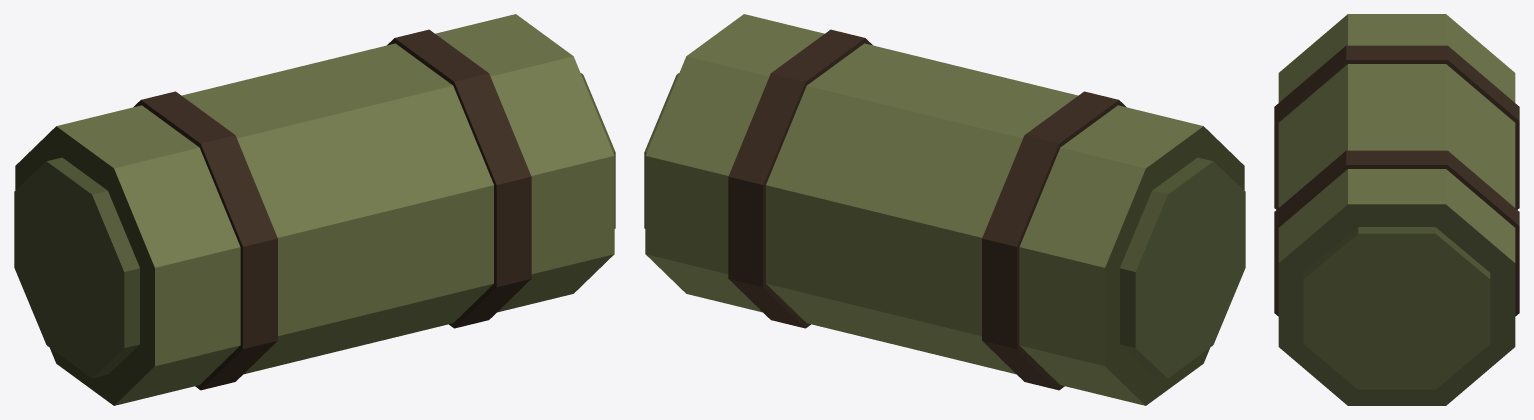
Rendered from gear-swag.glb.
The picture shows the model from 3 angles, left to right: view 1: azimuth 30°, elevation 25°; view 2: azimuth 150°, elevation 25°; view 3: azimuth 270°, elevation 25°; orthographic projection. The views are drawn at different scales.
Visible parts, largest first — view 1: Swag; view 2: Swag; view 3: Swag.
Part boxes in pixels (box(x1,y1,x2,y2)): Swag: box(14, 14, 615, 405); Swag: box(644, 14, 1245, 405); Swag: box(1274, 14, 1519, 405).
Bounding box in the file's own units: 0.62 × 0.2975 × 0.316.
